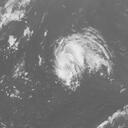cyclone: (53, 26, 113, 91)
